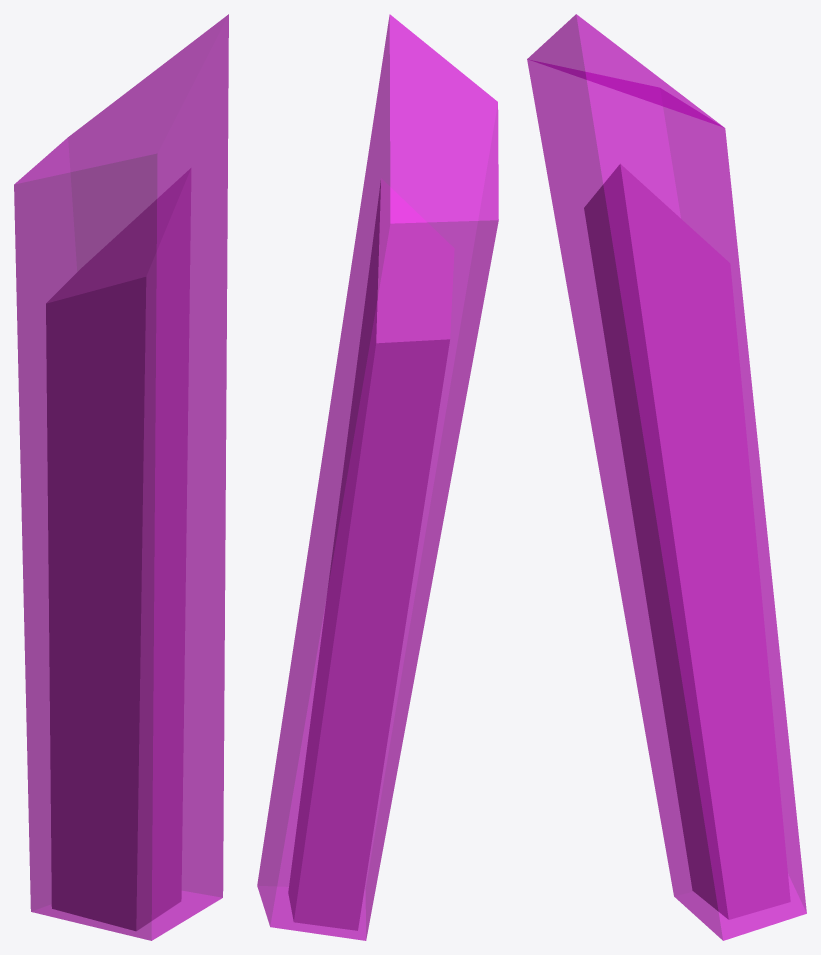
File: crystal3.fbx
3 renders of one model, left to right at view 1: azimuth 30°, elevation 25°; view 2: azimuth 150°, elevation 25°; view 3: azimuth 270°, elevation 25°, orthographic. The views are drawn at different scales.
Parts seen in each view (by area): view 1: polySurface40; view 2: polySurface40; view 3: polySurface40.
Part boxes in pixels (x1,y1,x2,y2): polySurface40: (14, 14, 228, 940); polySurface40: (257, 14, 498, 940); polySurface40: (527, 14, 806, 940).
Bounding box in the file's own units: 3.51 × 13.24 × 3.76.
